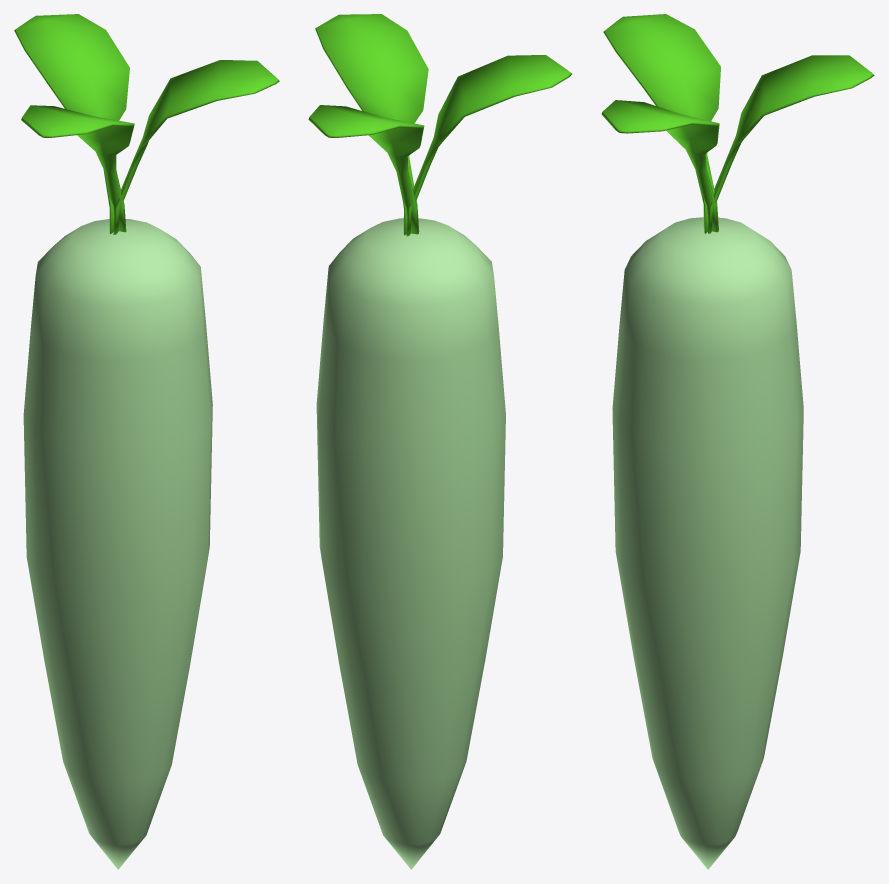
File: greenroot.fbx
3 views of the same model, side by side, from view 1: azimuth 30°, elevation 25°; view 2: azimuth 150°, elevation 25°; view 3: azimuth 270°, elevation 25° (orthographic).
Visible parts, largest first — view 1: meroot.002, leafs.003; view 2: meroot.002, leafs.003; view 3: meroot.002, leafs.003.
Part boxes in pixels (left/top/right/bottom): meroot.002: left=23, top=219, right=212, bottom=869; leafs.003: left=14, top=14, right=279, bottom=234; meroot.002: left=316, top=218, right=505, bottom=869; leafs.003: left=308, top=14, right=571, bottom=236; meroot.002: left=612, top=217, right=803, bottom=869; leafs.003: left=601, top=14, right=874, bottom=233.
Bounding box in the file's own units: 47.62 × 152 × 47.25.
